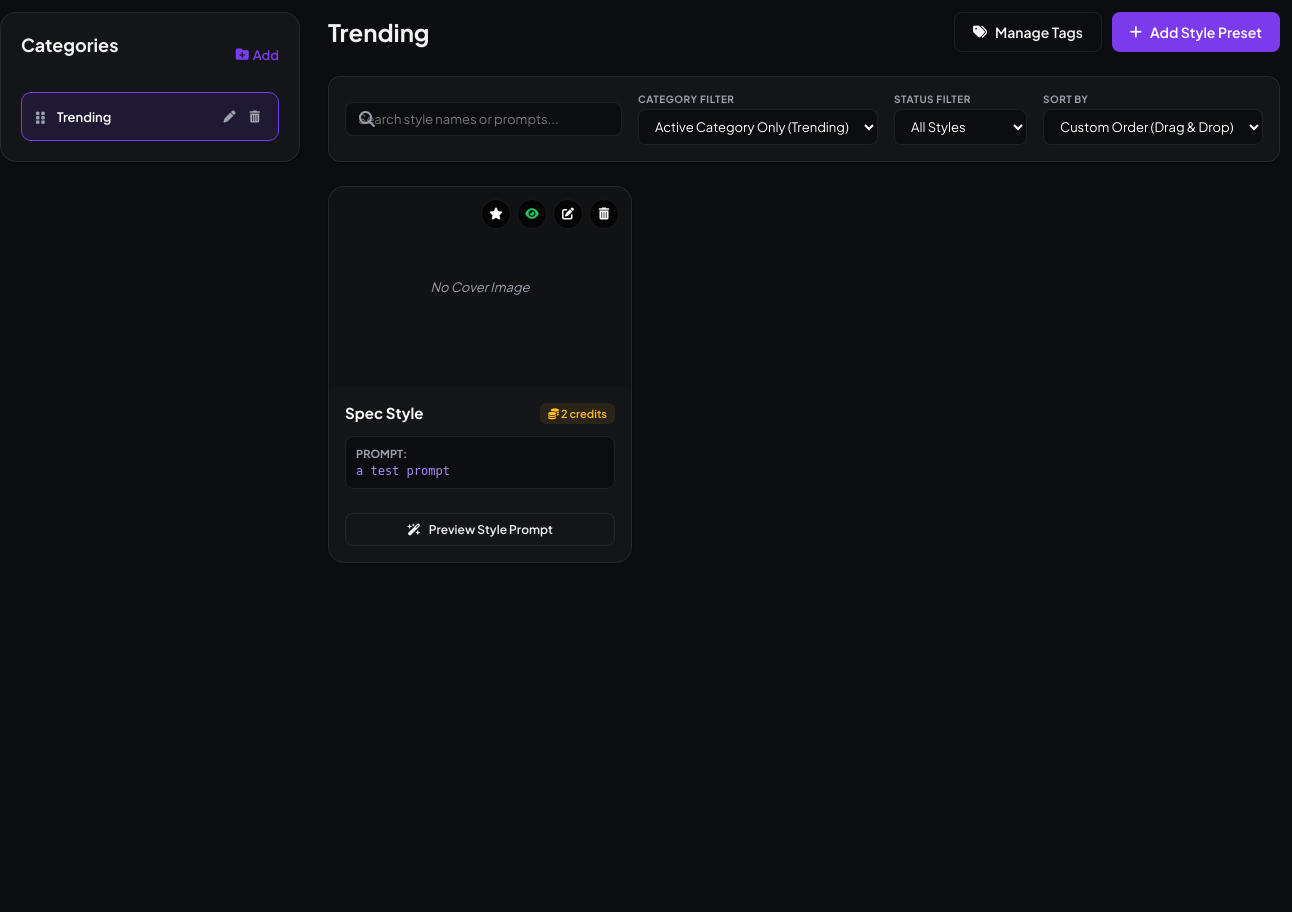
Test: StyleManagerPage - quick toggle actions (Trending / Enable-Disable) › reverts the optimistic flip and shows an error toast when the PATCH fails
Expected: the heading "Spec Style" is shown, [345,403,423,422]
Click the button titled "Mark as Trending" at [496, 214], box [481,199,511,229]
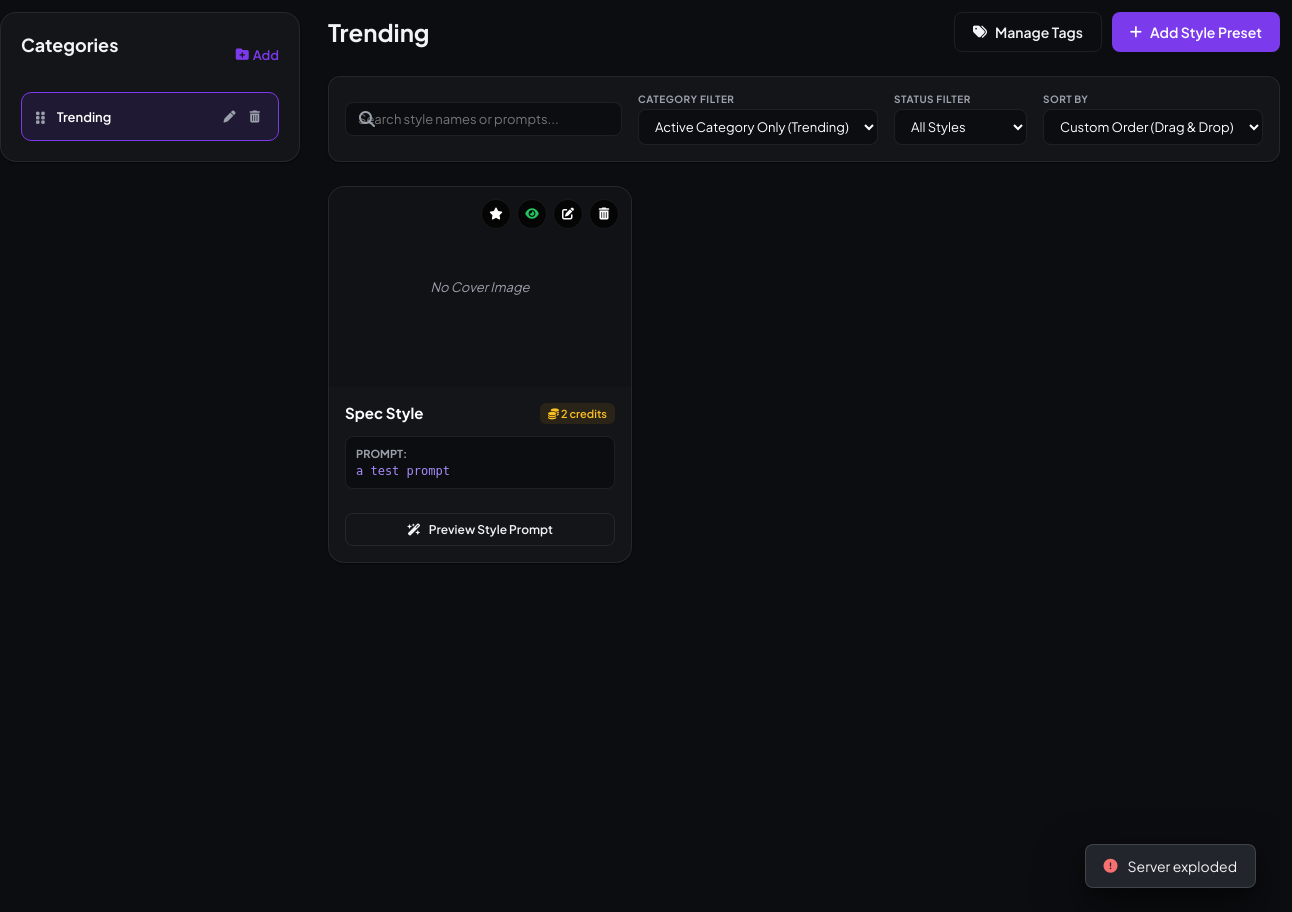
Now the text "Server exploded" is shown, box [1128,857,1237,875]
